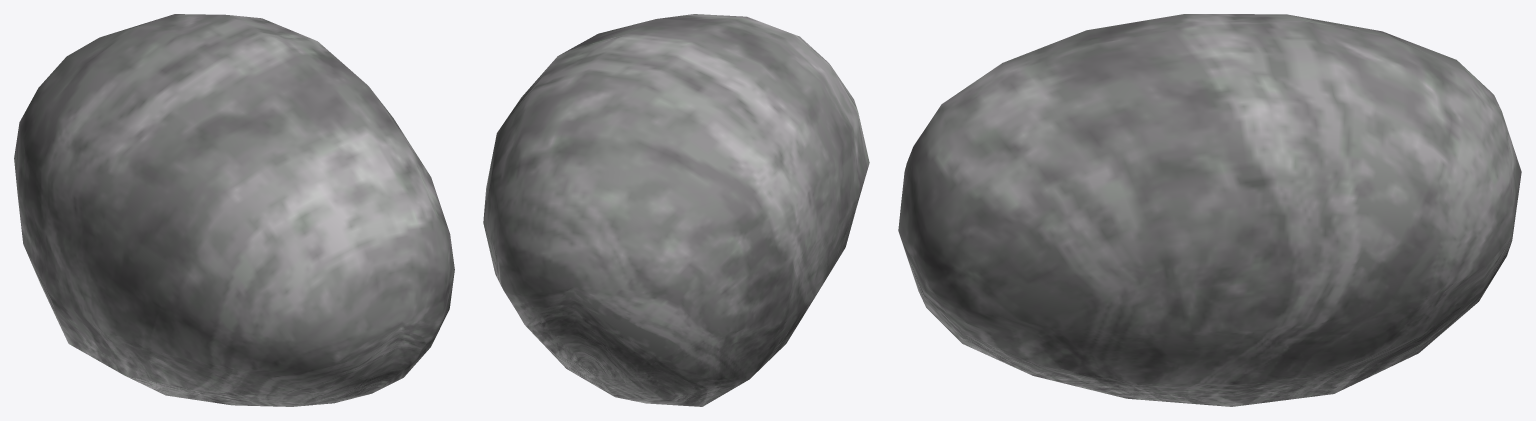
Rendered from Potato_Item (6).fbx.
3 views of the same model, side by side, from view 1: azimuth 30°, elevation 25°; view 2: azimuth 150°, elevation 25°; view 3: azimuth 270°, elevation 25° (orthographic). The views are drawn at different scales.
Parts seen in each view (by area): view 1: Potato; view 2: Potato; view 3: Potato.
Part boxes in pixels (x1=…): Potato: x1=14, y1=14, x2=454, y2=406; Potato: x1=483, y1=14, x2=869, y2=406; Potato: x1=898, y1=14, x2=1521, y2=406.
Size of the model in its own units: 0.4014 by 0.4146 by 0.6243.
1 material, 1 textured.
